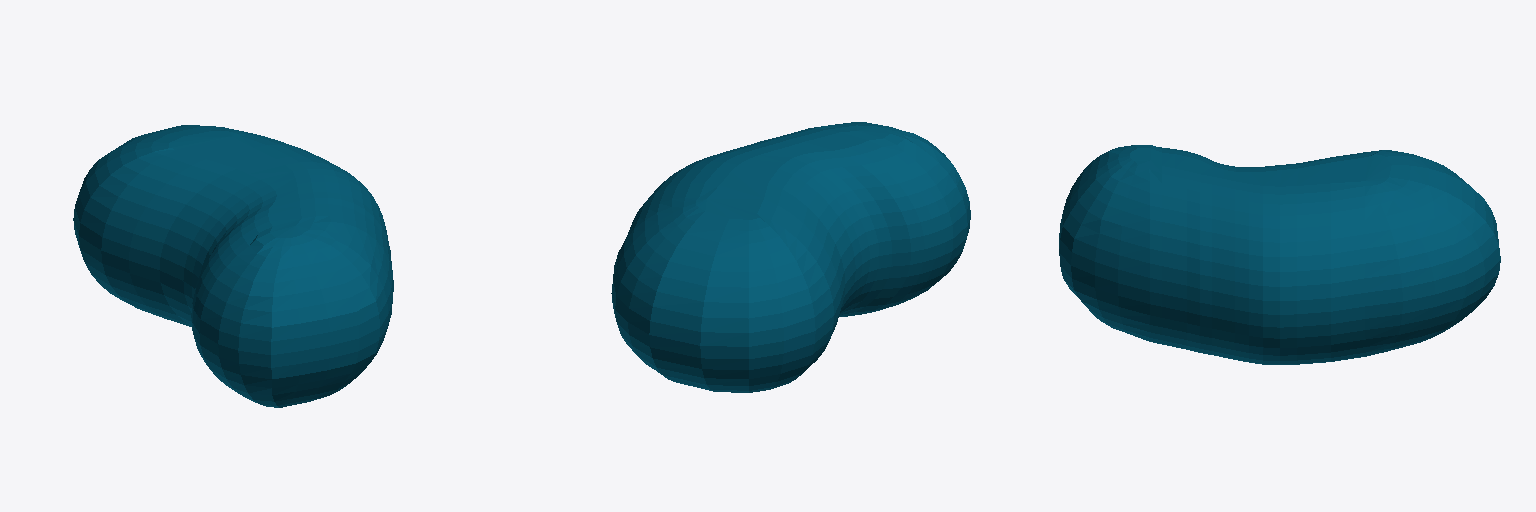
The model's file is Vacuole.obj.
The picture shows the model from 3 angles: view 1: azimuth 30°, elevation 25°; view 2: azimuth 150°, elevation 25°; view 3: azimuth 270°, elevation 25°; orthographic projection.
Parts seen in each view (by area): view 1: Vacuole Vacuole; view 2: Vacuole Vacuole; view 3: Vacuole Vacuole.
Part boxes in pixels (bbox=[...]): Vacuole Vacuole: bbox=[73, 125, 393, 407]; Vacuole Vacuole: bbox=[611, 122, 970, 392]; Vacuole Vacuole: bbox=[1059, 145, 1500, 364].
Size of the model in its own units: 60.17 by 39.79 by 95.07.